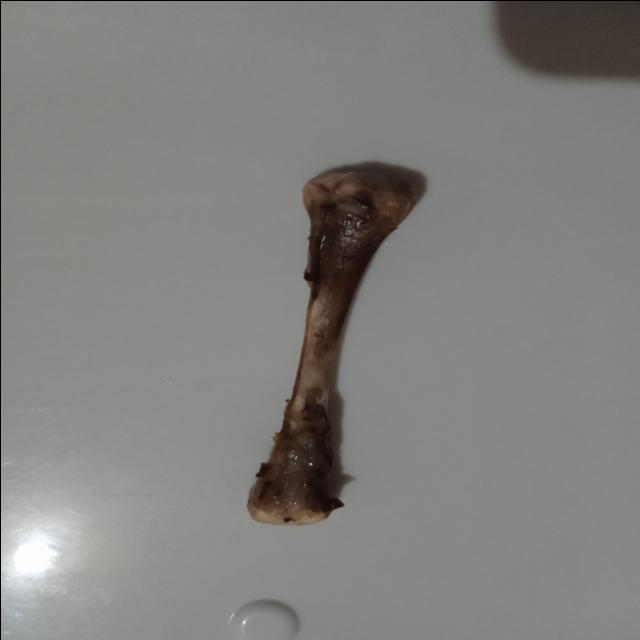bone: (238, 157, 428, 533)
